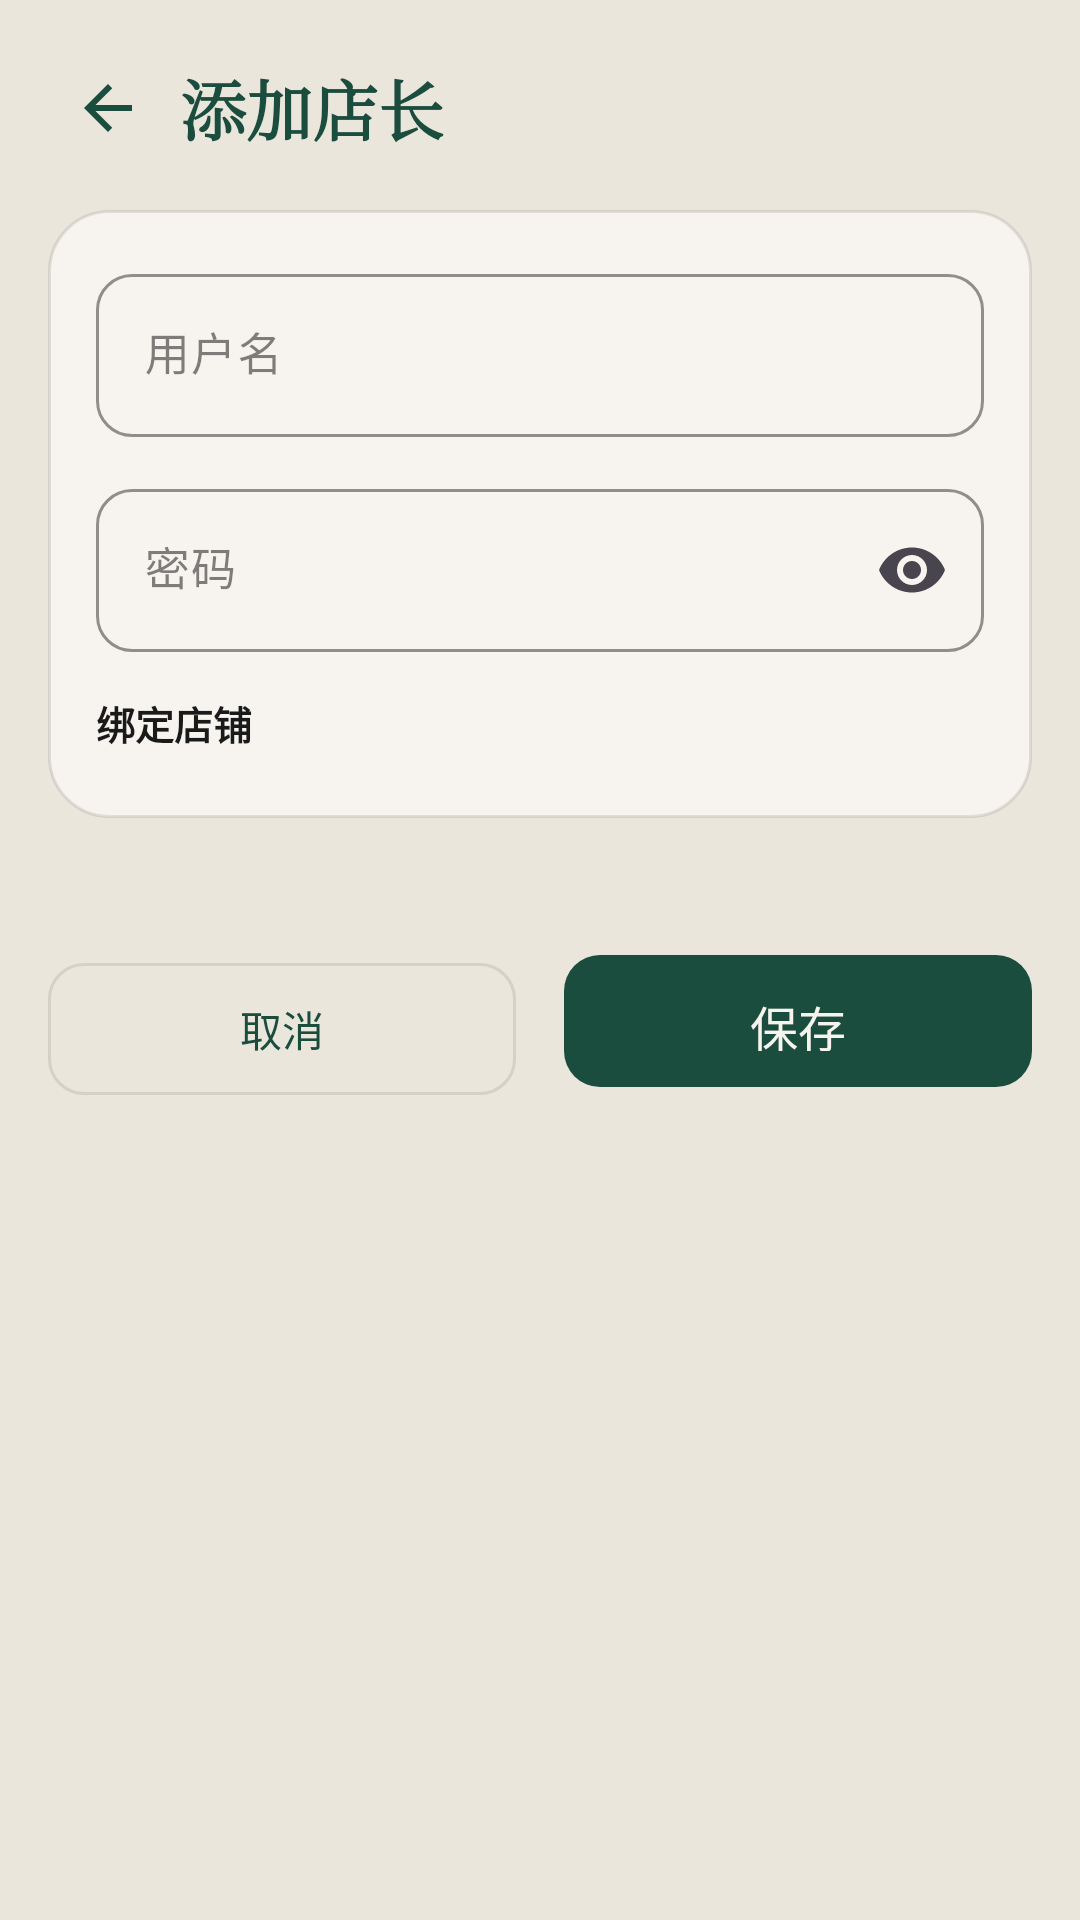

Icon click points for this 1080 × 1920 phone screenshot, format (x=x, y=y):
返回: (x=108, y=108)
